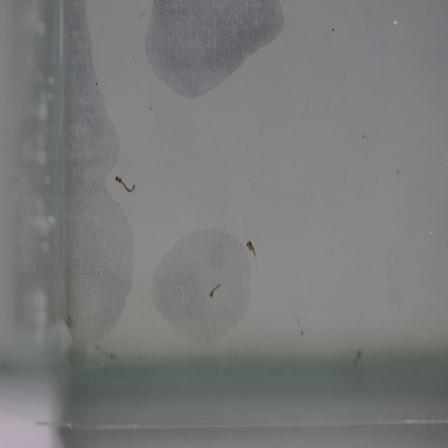Jentik-Nyamuk: (113, 170, 142, 199), (239, 235, 265, 261), (202, 275, 225, 302)
